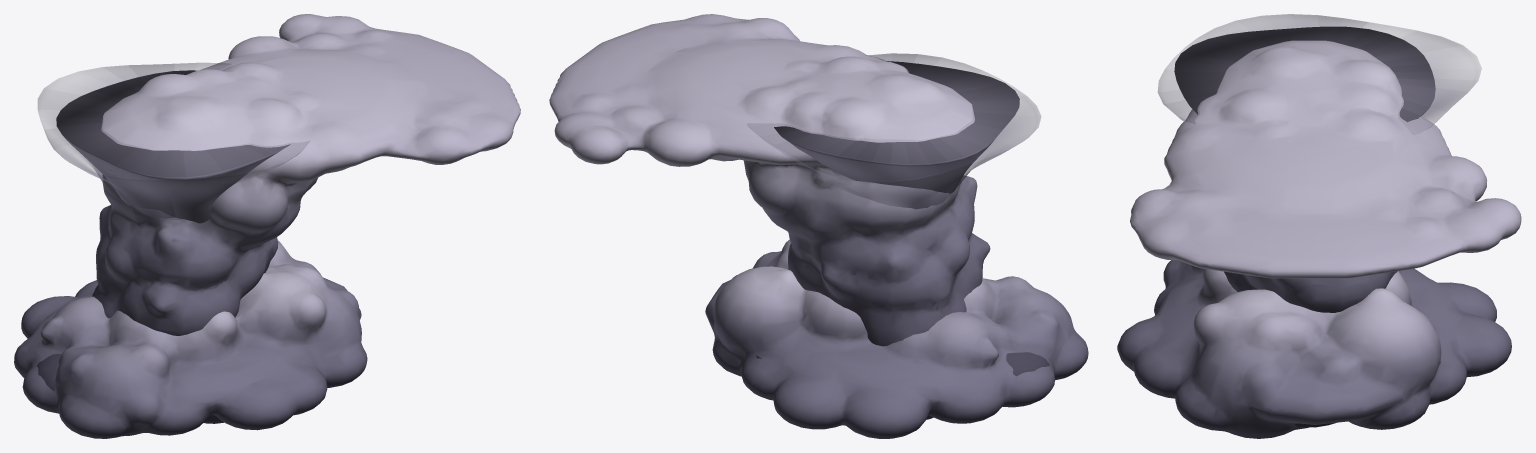
File: FlyHigh_StormLookDev2.glb
The picture shows the model from 3 angles, left to right: view 1: azimuth 30°, elevation 25°; view 2: azimuth 150°, elevation 25°; view 3: azimuth 270°, elevation 25°; orthographic projection. The views are drawn at different scales.
Visible parts, largest first — view 1: StormCumulonimbus, StormWallCloud, StormFunnelShell, StormFunnelCore; view 2: StormCumulonimbus, StormWallCloud, StormFunnelShell, StormFunnelCore; view 3: StormCumulonimbus, StormWallCloud, StormFunnelShell, StormFunnelCore.
Part boxes in pixels (left/top/right/bottom): StormCumulonimbus: left=37, top=14, right=520, bottom=390; StormWallCloud: left=14, top=240, right=367, bottom=438; StormFunnelShell: left=38, top=63, right=309, bottom=218; StormFunnelCore: left=56, top=70, right=290, bottom=223; StormCumulonimbus: left=549, top=14, right=1049, bottom=376; StormWallCloud: left=705, top=239, right=1088, bottom=438; StormFunnelShell: left=748, top=53, right=1041, bottom=209; StormFunnelCore: left=774, top=61, right=1019, bottom=193; StormCumulonimbus: left=1130, top=40, right=1521, bottom=427; StormWallCloud: left=1117, top=260, right=1511, bottom=438; StormFunnelShell: left=1158, top=14, right=1481, bottom=133; StormFunnelCore: left=1174, top=26, right=1435, bottom=122.
Bounding box in the file's own units: 401 × 244 × 274.
3 materials, 3 textured.
